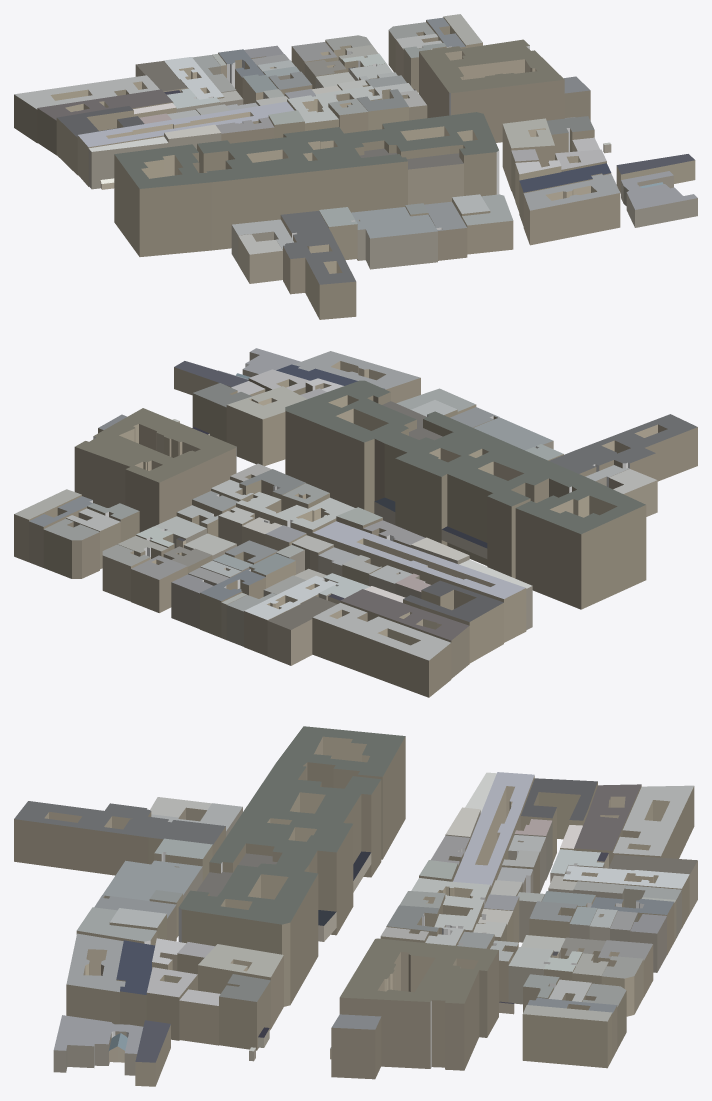
3 views of the same model, one above another, from view 1: azimuth 30°, elevation 25°; view 2: azimuth 150°, elevation 25°; view 3: azimuth 270°, elevation 25° (orthographic). The views are drawn at different scales.
Parts seen in each view (by area): view 1: tuile; view 2: tuile; view 3: tuile.
Boxes of the visible parts, x1,y1,x2,y2 form: tuile: (14, 14, 697, 319); tuile: (14, 348, 697, 697); tuile: (14, 726, 697, 1086).
Size of the model in its own units: 301 by 40.25 by 301.
